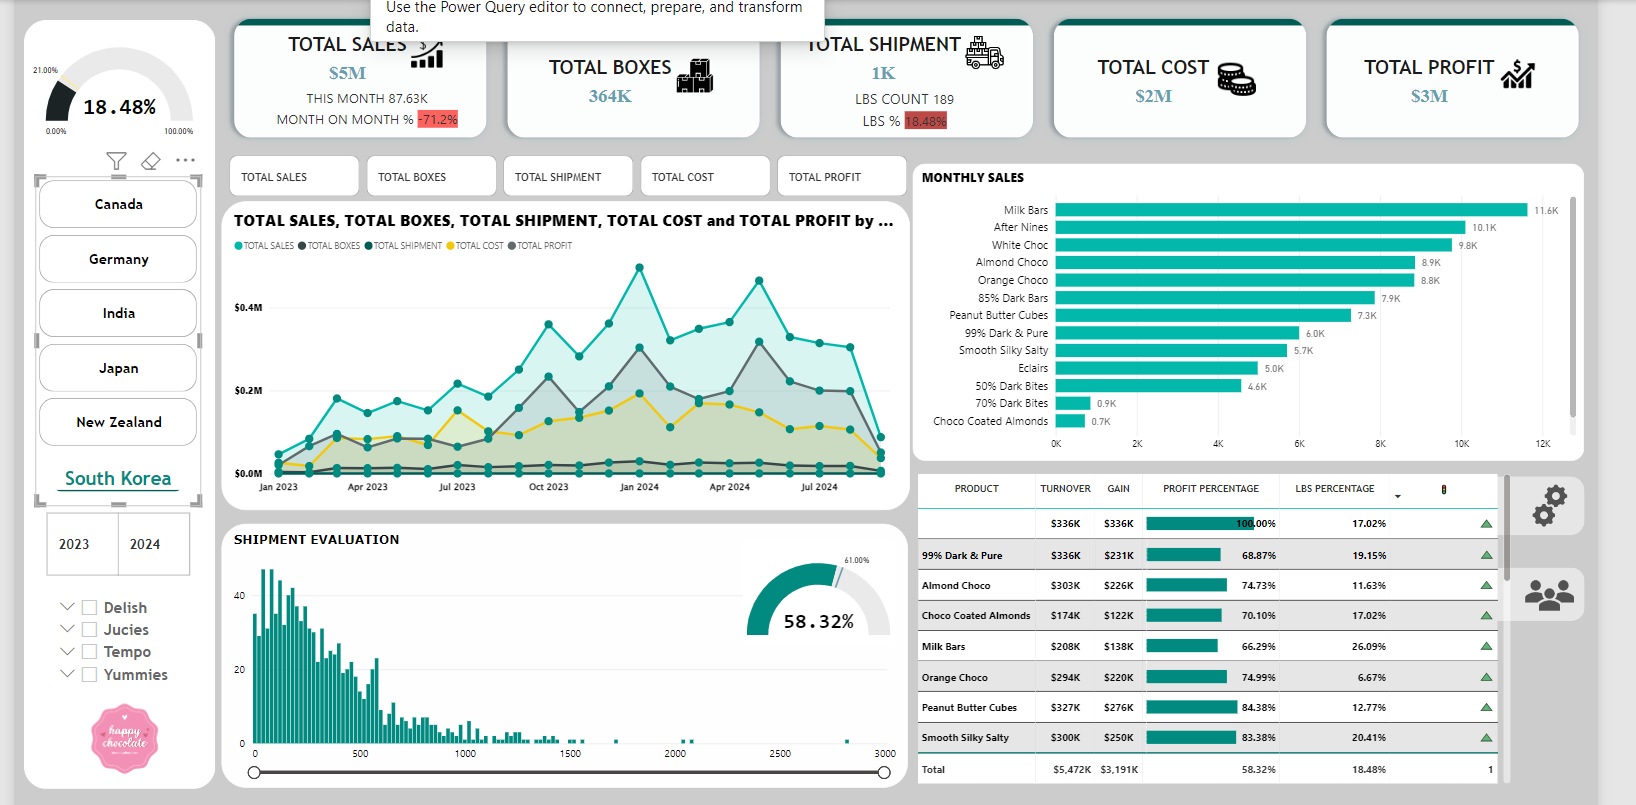

What the dashboard file says about the page in this screenshot:
{"tool":"powerbi","page":{"name":"Page 3","canvas":[1920,1080],"ordinal":1},"visuals":[{"type":"columnChart","fields":{"Category":["shipments.Boxes (bins)"],"Y":["measurement.TOTAL SHIPMENT"]},"box":[10,0,680,523.3],"z":0},{"type":"gauge","fields":{"Y":["measurement.LBS PERCENTAGE"]},"box":[10,533.3,666.7,181.7],"z":1000}]}

Visuals, with their boxes on the page's 1920x1080 design canvas (x1, y1, x2, y2). These are canvas units, not pixel positions in the 1636x805 screenshot, which may show the page scaled, cropped or inside an application window:
columnChart - shipments.Boxes (bins) x measurement.TOTAL SHIPMENT: select_region(10, 0, 690, 523)
gauge - measurement.LBS PERCENTAGE: select_region(10, 533, 677, 715)
